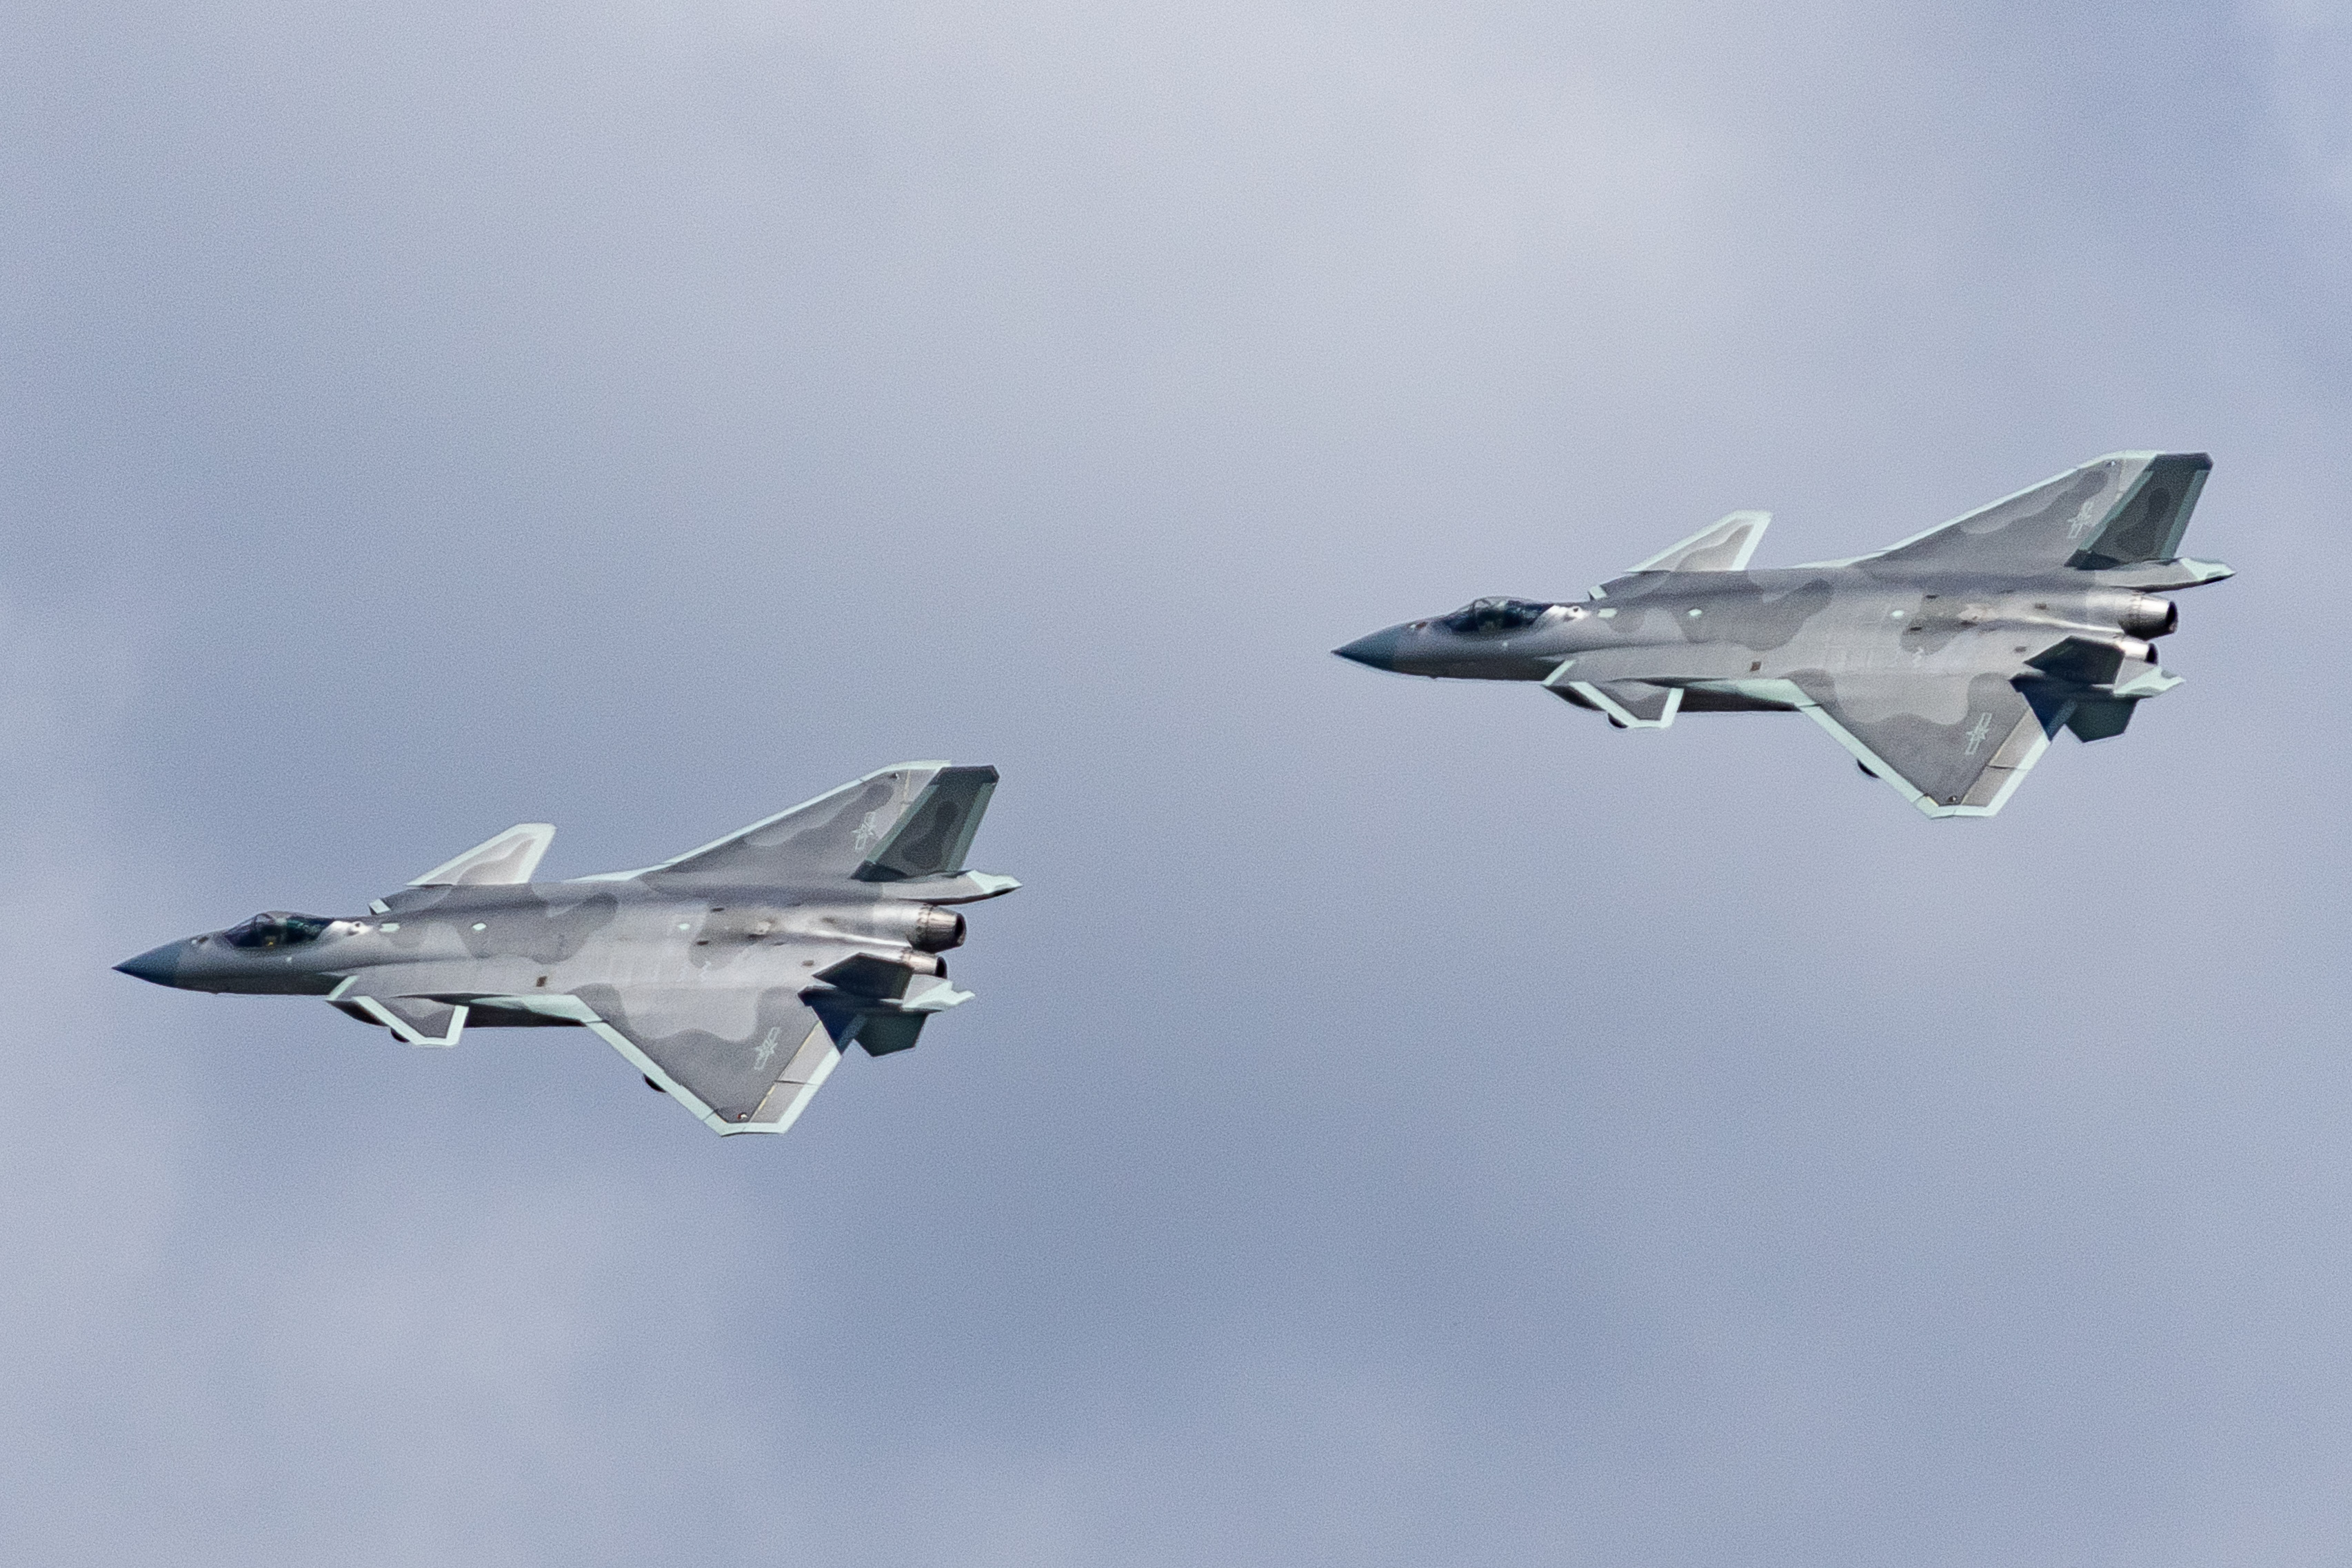J20: (110, 759, 1024, 1137), (1330, 450, 2236, 821)
